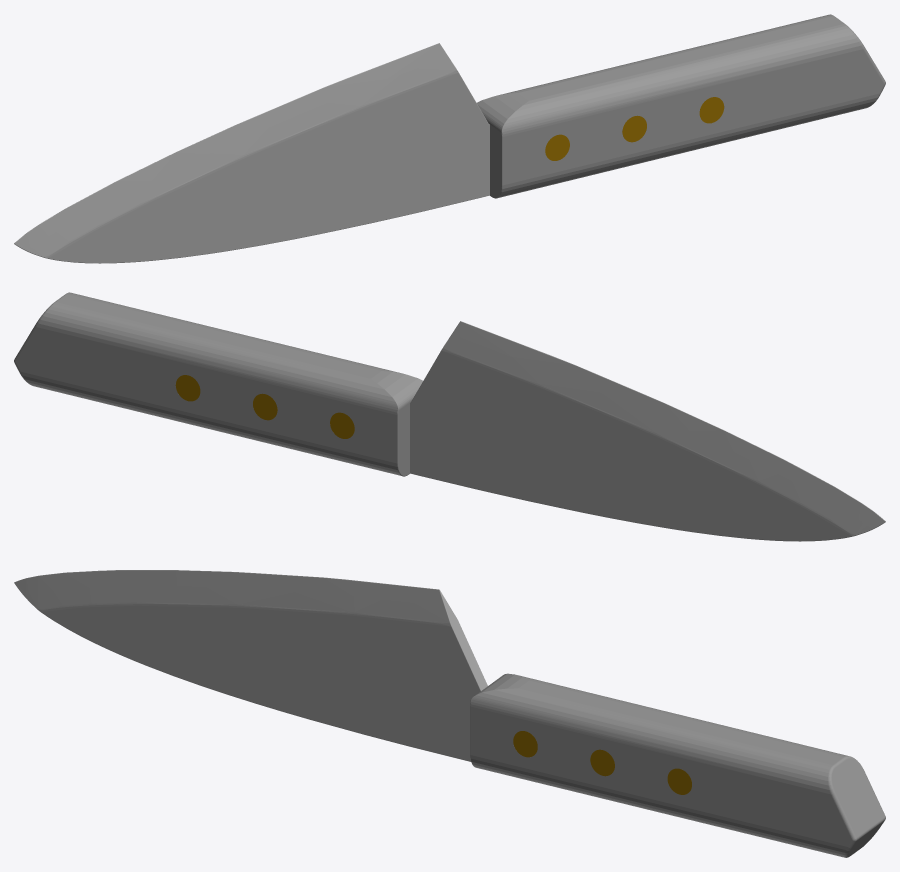
Rendered from 03_-_Knife.FBX.
The picture shows the model from 3 angles, top to bottom: view 1: azimuth 30°, elevation 25°; view 2: azimuth 150°, elevation 25°; view 3: azimuth 330°, elevation 25°; orthographic projection.
Parts seen in each view (by area): view 1: Dummy001; view 2: Dummy001; view 3: Dummy001.
Boxes of the visible parts, x1,y1,x2,y2 form: Dummy001: [14, 14, 885, 263]; Dummy001: [14, 292, 885, 541]; Dummy001: [14, 570, 885, 857].
Bounding box in the file's own units: 10.94 × 1.97 × 0.7087.
